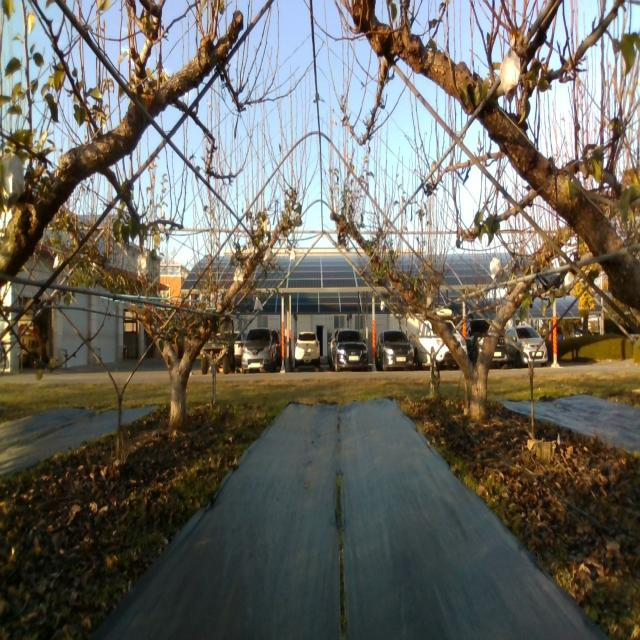pearbags: (0, 152, 26, 209), (500, 49, 521, 103), (489, 256, 502, 280), (137, 252, 148, 277), (233, 264, 244, 282)
